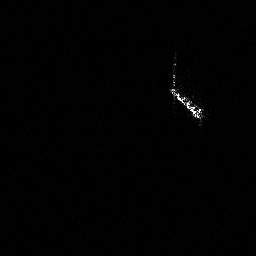ship: (165, 68, 209, 124)
